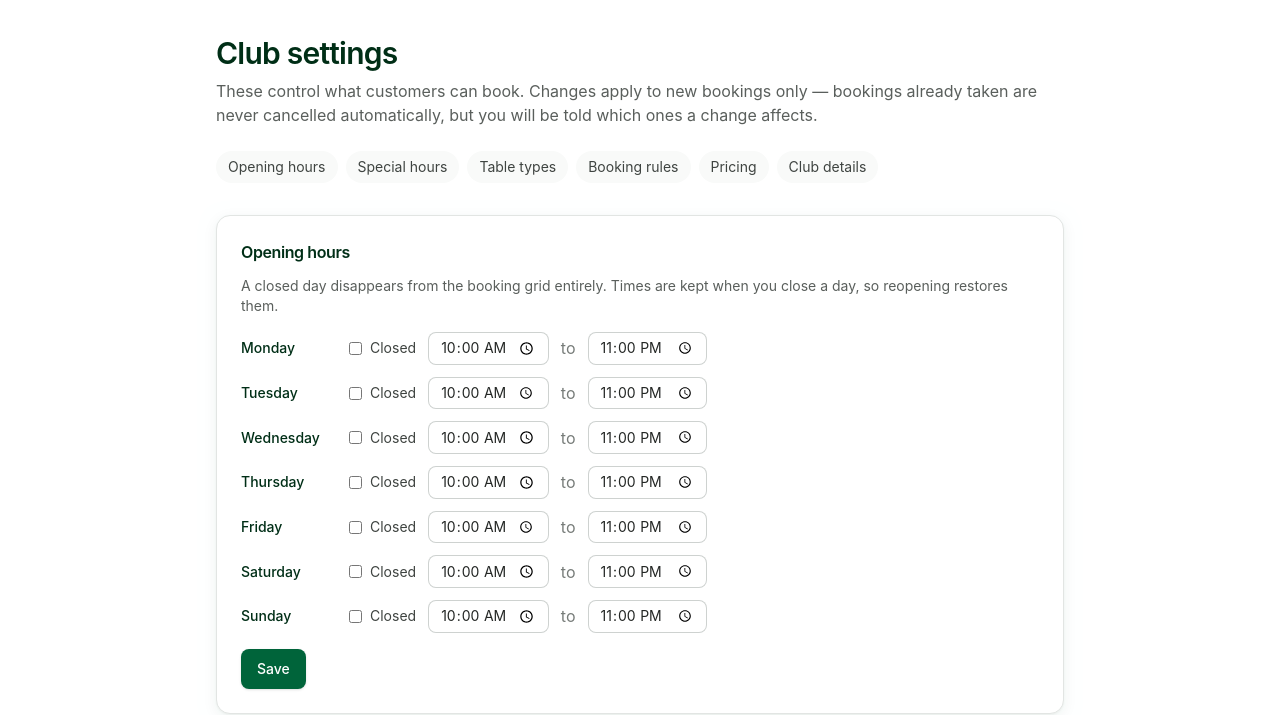
it: AdminSettingsPage › shows which bookings a settings change has stranded
Expected: the time field named "Monday opening time" is shown, [428,332,549,365]
Click the checkbox named "Monday closed".
click(356, 348)  # box [349,342,362,355]
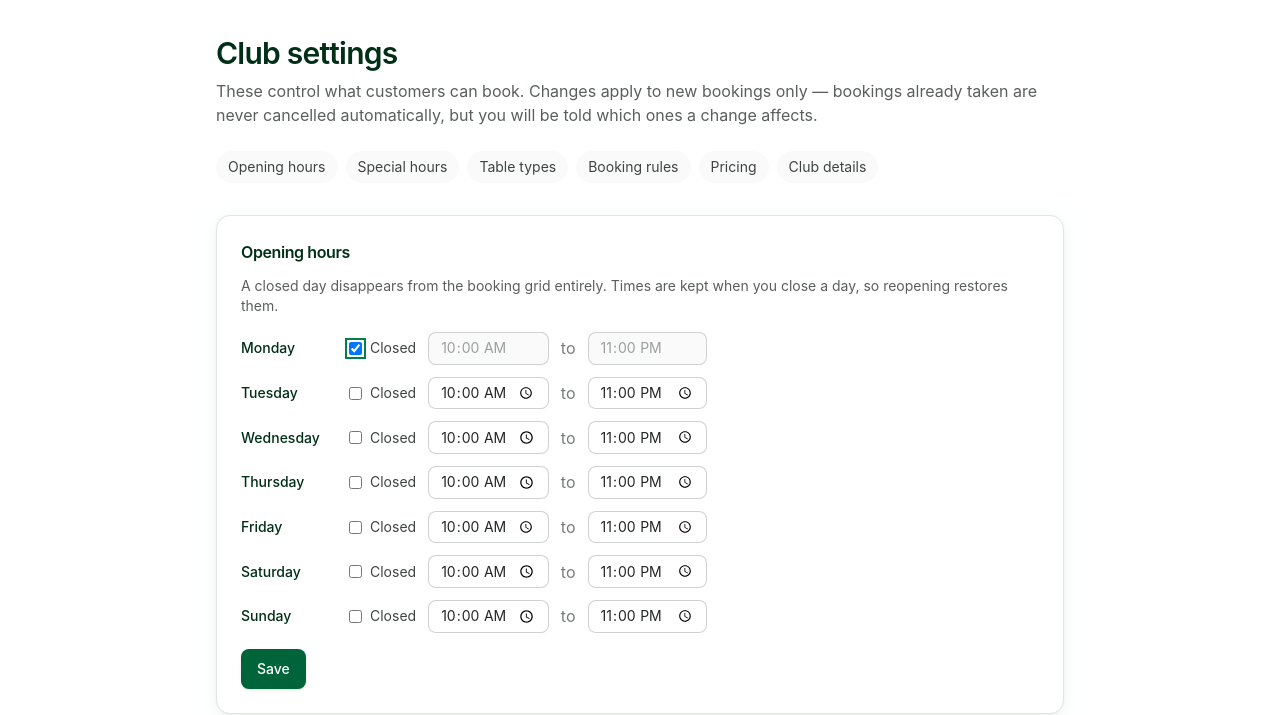
Click the button "Save".
click(273, 669)  # box [241,649,306,689]
(page scrolled)
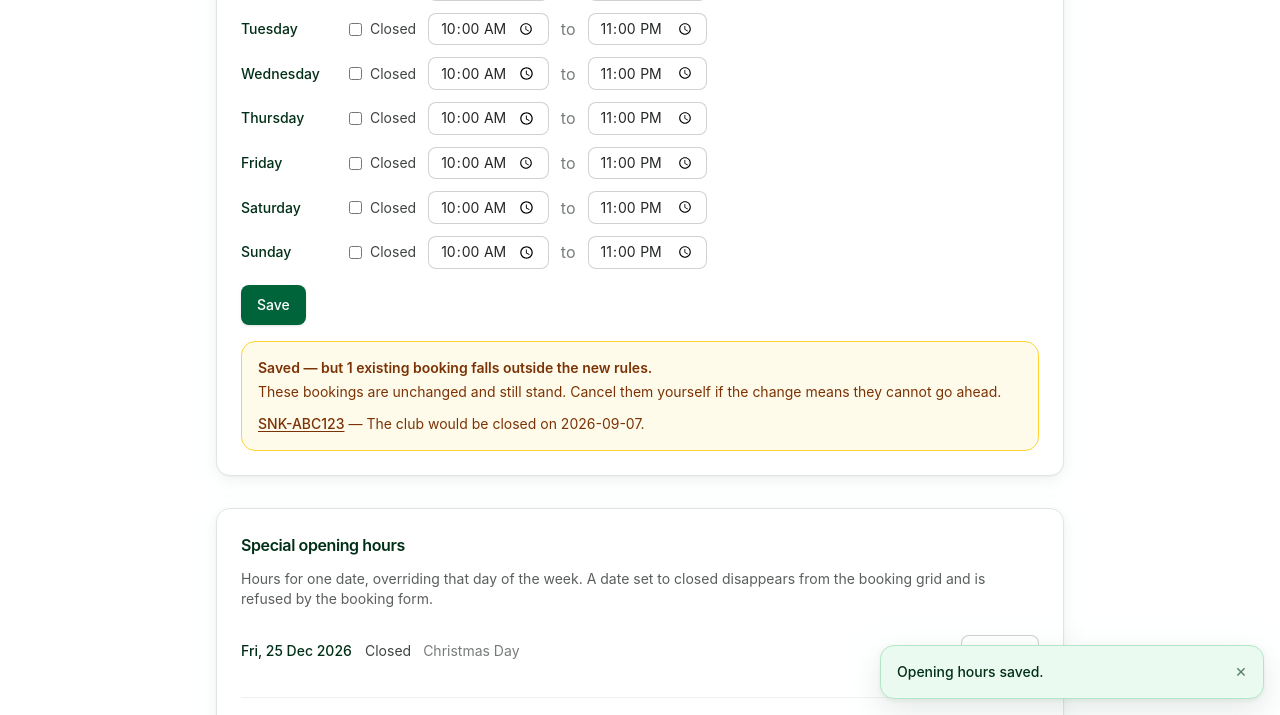
Result: the message that starts with "Saved — but" shows "SNK-ABC123" at [258,415,344,432]
Result: the message that starts with "Saved — but" shows "unchanged and still stand" at [258,383,1001,400]
